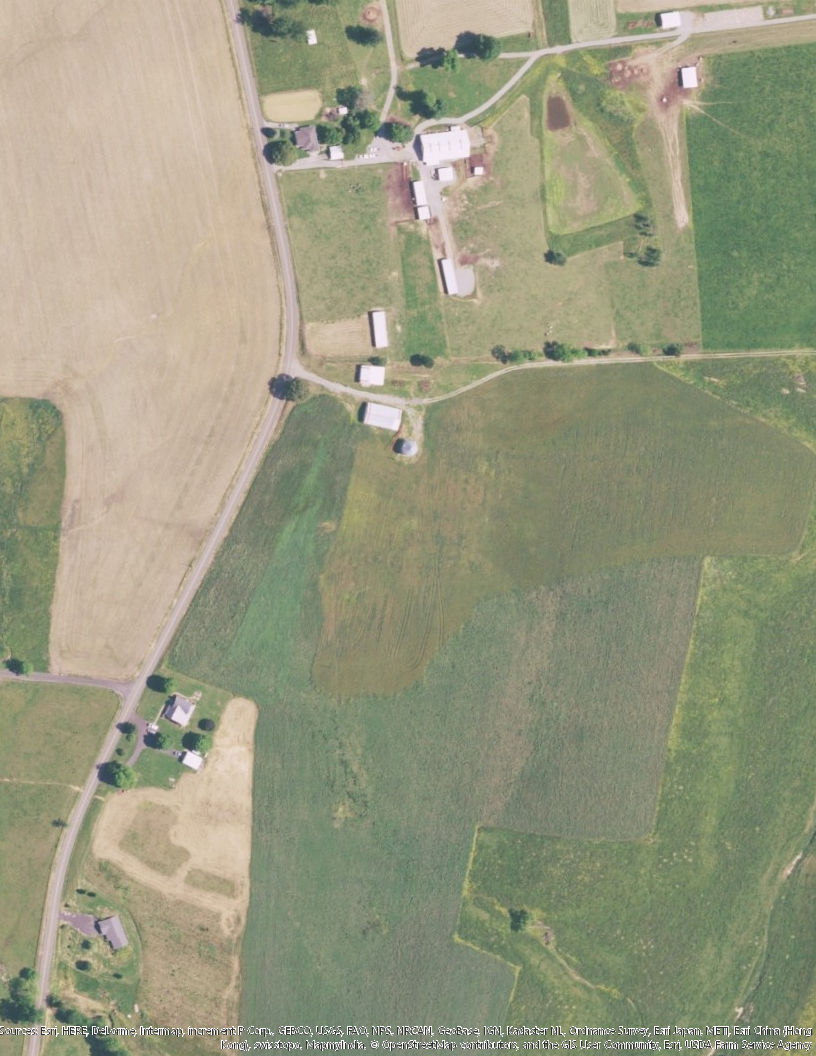cafo: (417, 123, 482, 184), (358, 401, 408, 434), (437, 253, 465, 298), (368, 308, 393, 350), (354, 361, 391, 387), (414, 188, 431, 220)
